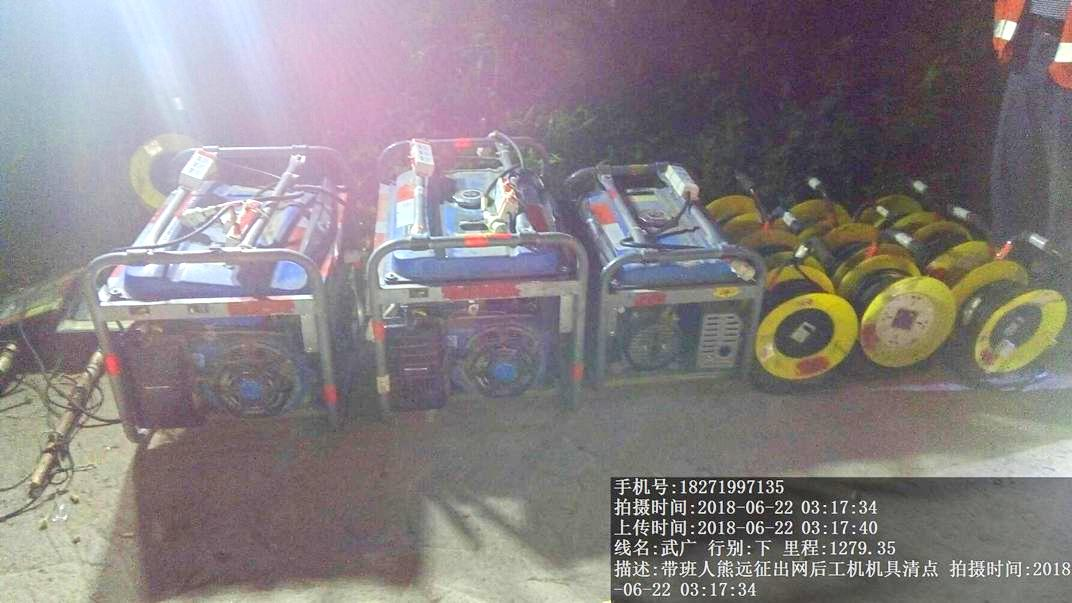DJ: (92, 150, 358, 422), (361, 141, 579, 406), (570, 167, 748, 389)
DX: (950, 254, 1062, 390), (755, 265, 859, 382), (854, 256, 957, 370)
